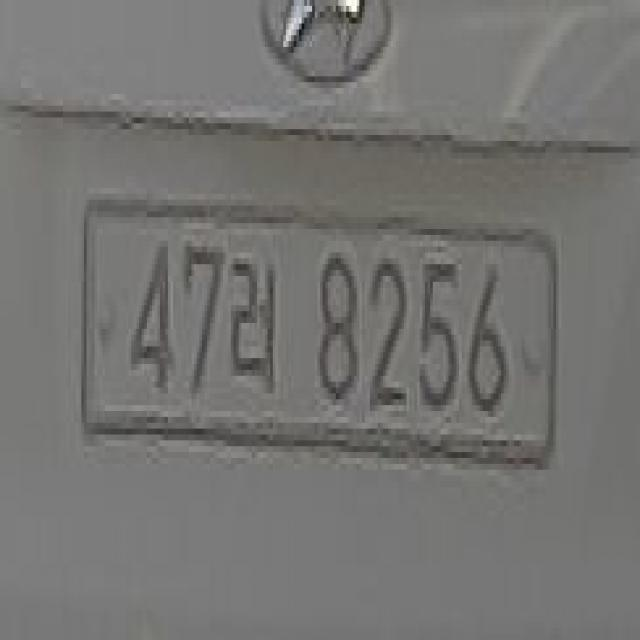2: (368, 245, 412, 424)
4: (124, 229, 179, 412)
5: (419, 249, 460, 416)
6: (468, 248, 511, 431)
7: (183, 232, 224, 408)
8: (318, 238, 364, 418)
leo: (231, 240, 283, 405)
license_plate: (79, 174, 572, 492)
